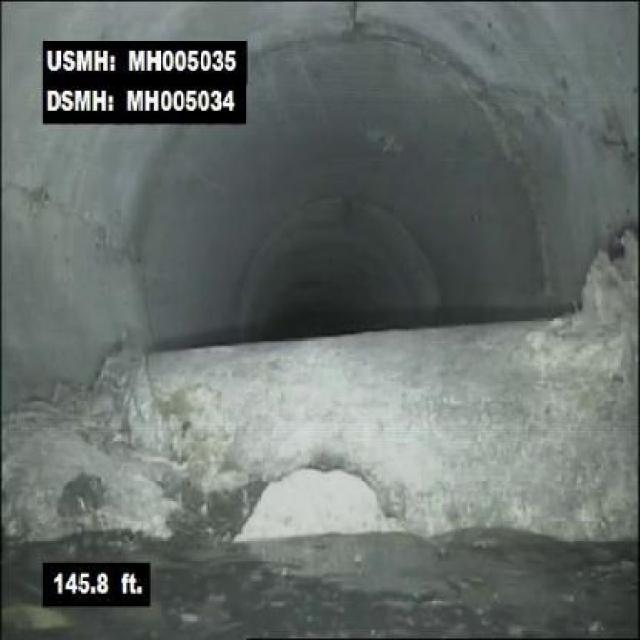Crack: (531, 92, 637, 166), (1, 173, 110, 244), (345, 4, 366, 30)
Utility intrusion: (52, 304, 638, 564)
